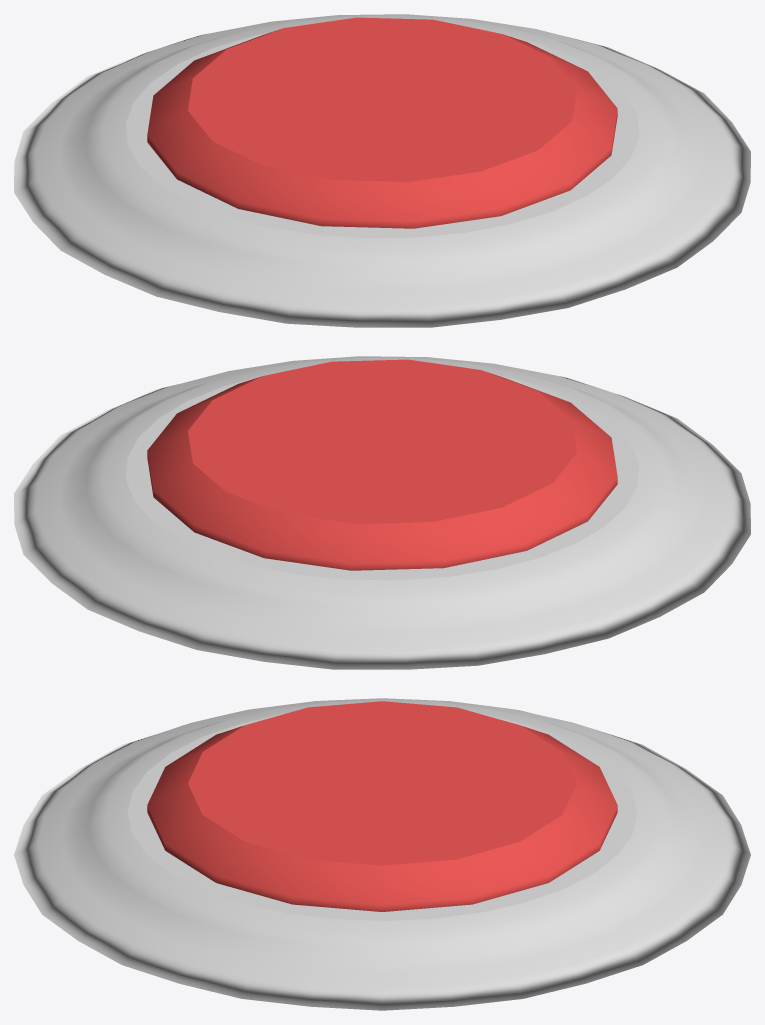
The model's file is Button-Off.fbx.
3 views of the same model, one above another, from view 1: azimuth 30°, elevation 25°; view 2: azimuth 150°, elevation 25°; view 3: azimuth 270°, elevation 25° (orthographic).
Visible parts, largest first — view 1: Cylinder, Cylinder.001; view 2: Cylinder, Cylinder.001; view 3: Cylinder, Cylinder.001.
Boxes of the visible parts, box(x1,y1,x2,y2) form: Cylinder: box(14, 14, 750, 327); Cylinder.001: box(147, 17, 617, 228); Cylinder: box(14, 356, 750, 669); Cylinder.001: box(147, 359, 617, 570); Cylinder: box(14, 698, 750, 1010); Cylinder.001: box(147, 701, 617, 911).
Bounding box in the file's own units: 204 × 27.01 × 204.
